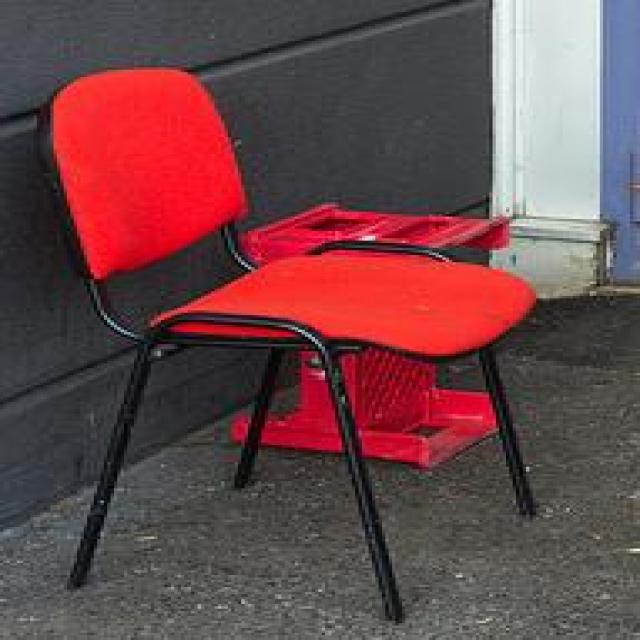chair: (37, 65, 536, 623)
